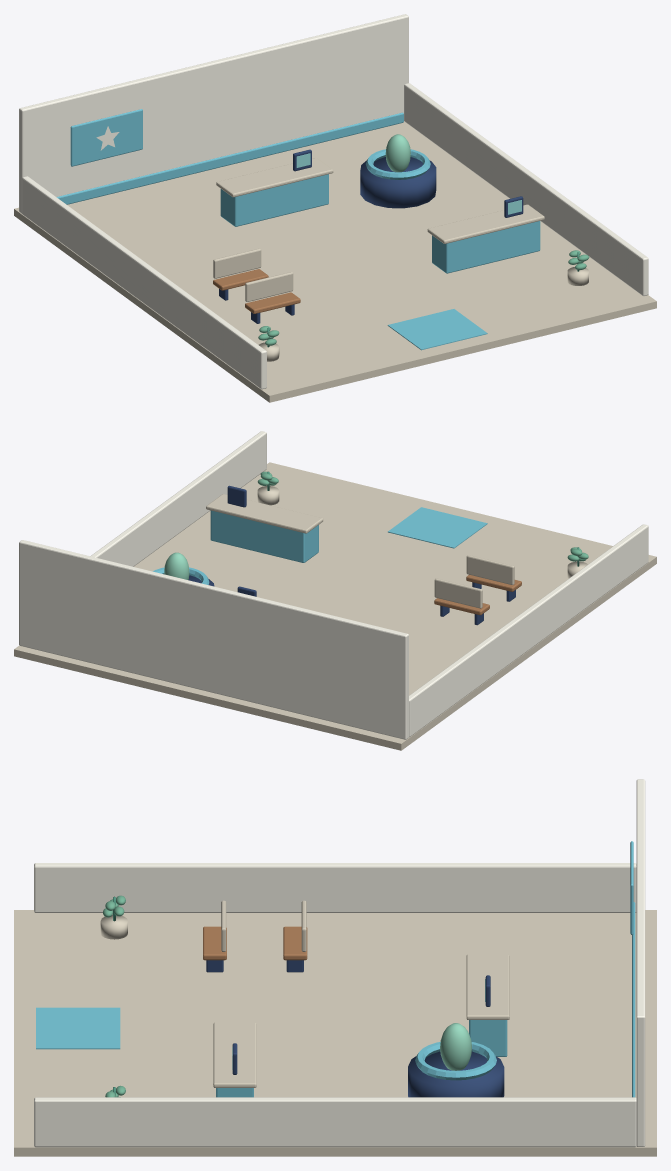
Rendered from care_center-interior.glb.
The picture shows the model from 3 angles, top to bottom: view 1: azimuth 30°, elevation 25°; view 2: azimuth 150°, elevation 25°; view 3: azimuth 270°, elevation 25°; orthographic projection. The views are drawn at different scales.
Parts seen in each view (by area): view 1: care_center · furnished cutaway interior; view 2: care_center · furnished cutaway interior; view 3: care_center · furnished cutaway interior.
Part boxes in pixels (<box>): care_center · furnished cutaway interior: <box>14,14,656,402</box>; care_center · furnished cutaway interior: <box>14,431,656,750</box>; care_center · furnished cutaway interior: <box>14,779,656,1156</box>.
Bounding box in the file's own units: 14.02 × 3.84 × 16.
